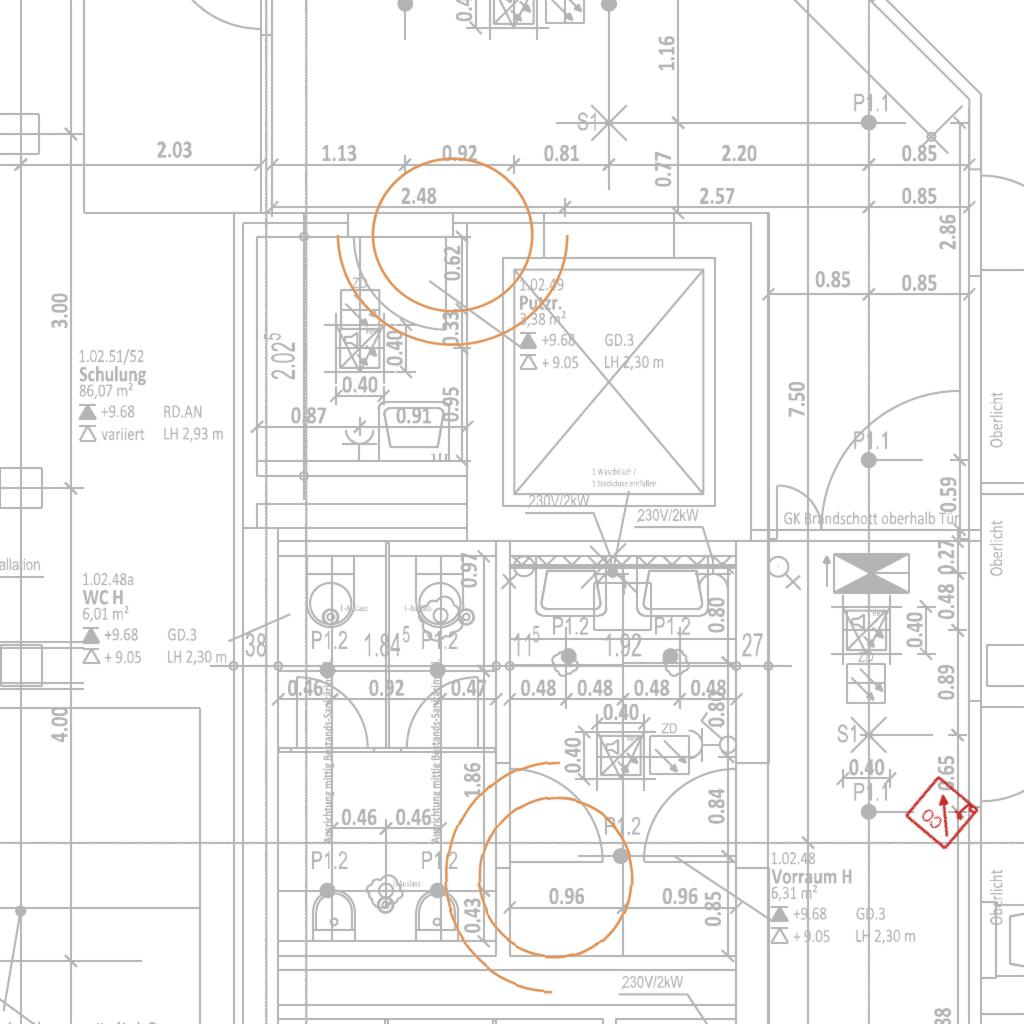ROA_Rauchmelder_optisch_mit_Signalgeber_(Sockelsirene): (902, 772, 982, 852)
Scheinwerfer_fuer_Alarmbeleuchtung: (428, 747, 664, 1020), (327, 132, 591, 357)
